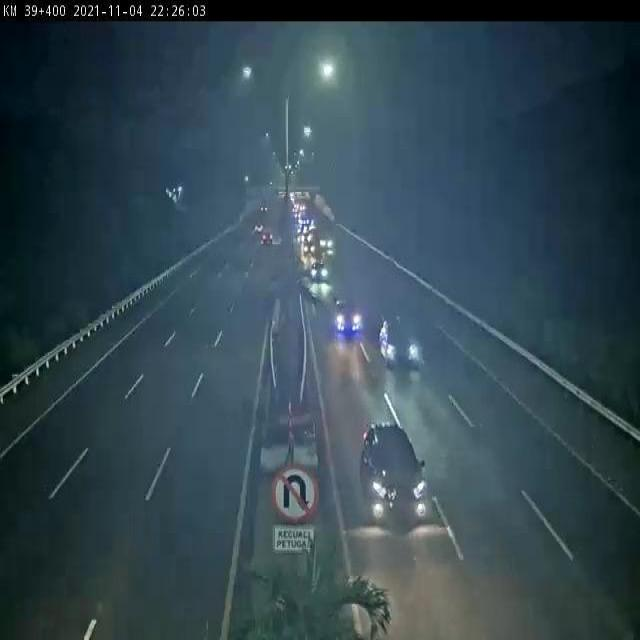car: (359, 409, 430, 539), (386, 306, 423, 378), (328, 298, 368, 346), (311, 260, 328, 287), (262, 232, 274, 249), (304, 245, 317, 258), (256, 225, 264, 235)
